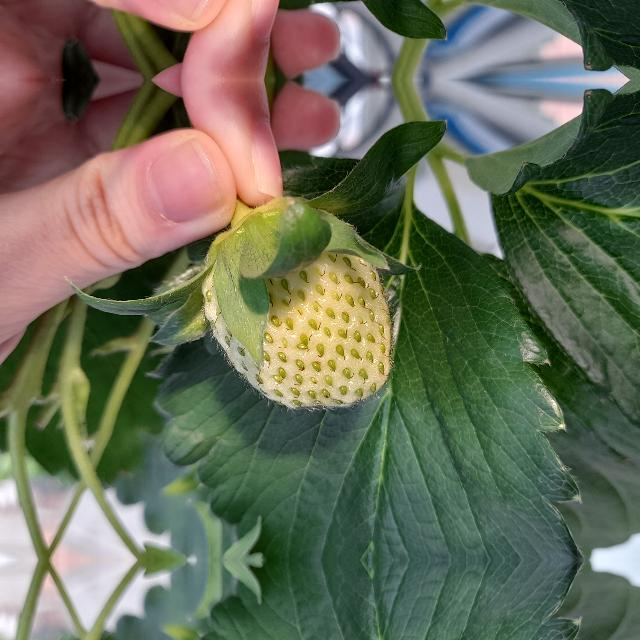Health_25: (201, 209, 391, 409)
